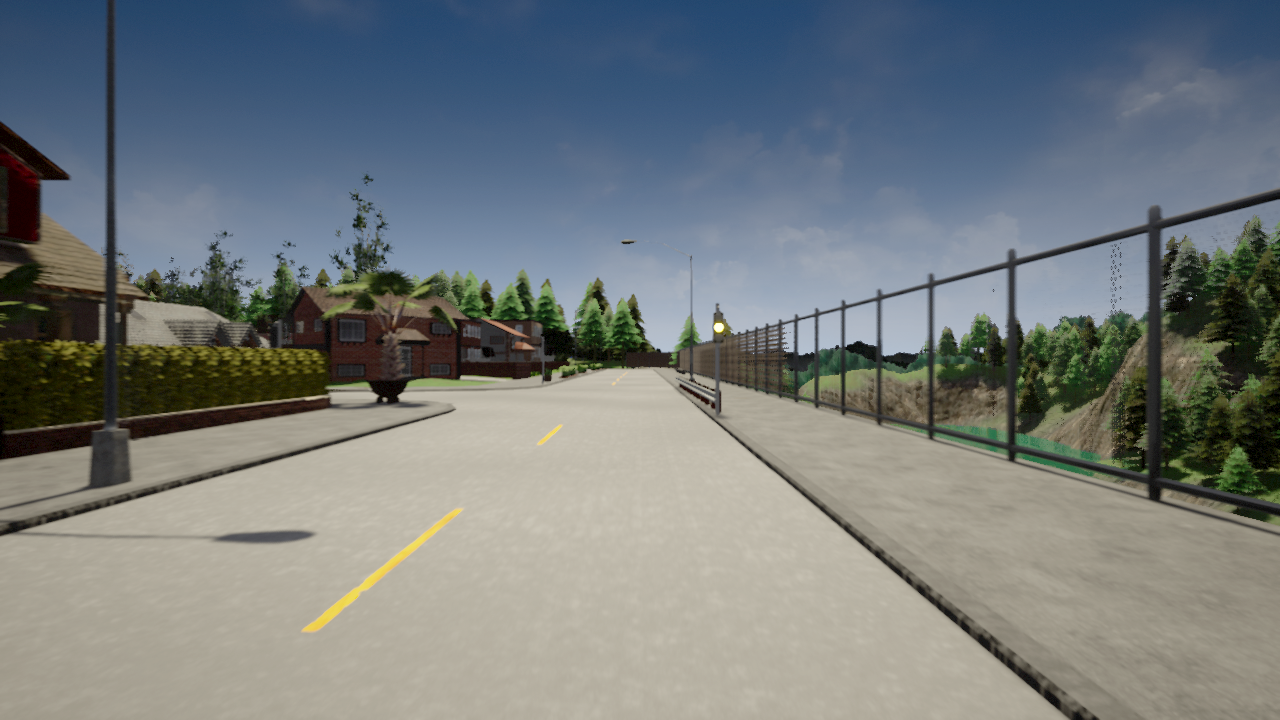yellow: (711, 310, 724, 341)
